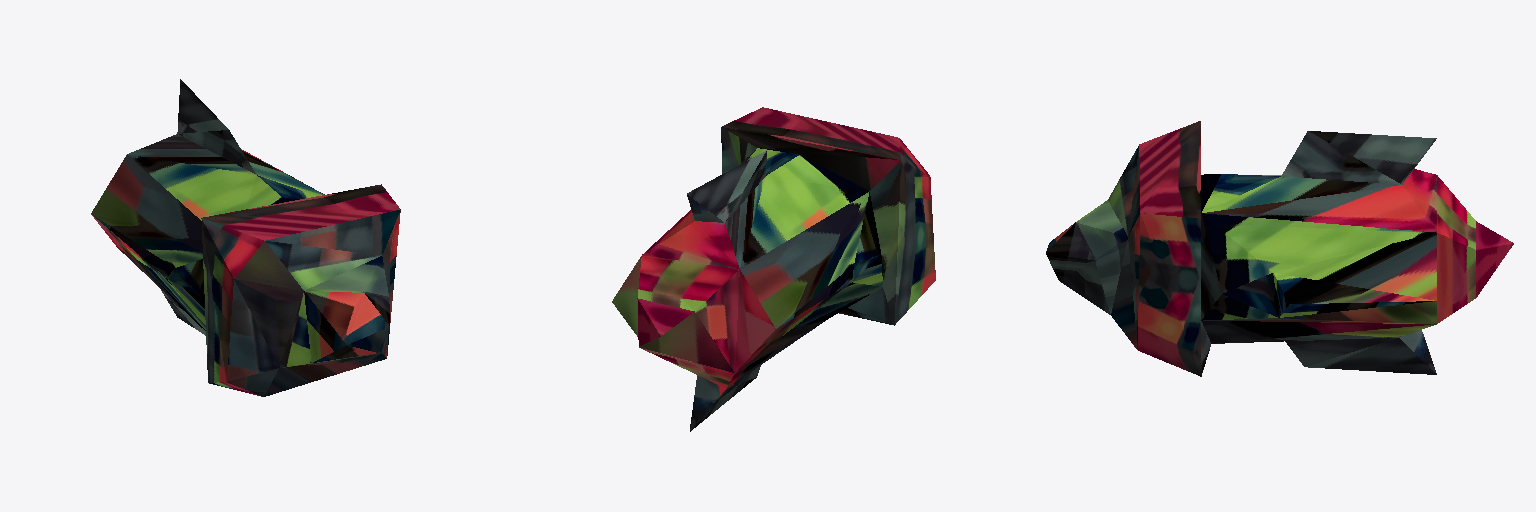
3 renders of one model, left to right at view 1: azimuth 30°, elevation 25°; view 2: azimuth 150°, elevation 25°; view 3: azimuth 270°, elevation 25°, orthographic.
Parts seen in each view (by area): view 1: ai_model; view 2: ai_model; view 3: ai_model.
Part boxes in pixels (bbox=[...]): ai_model: bbox=[91, 79, 400, 396]; ai_model: bbox=[612, 107, 935, 431]; ai_model: bbox=[1046, 121, 1513, 376].
Size of the model in its own units: 0.4166 by 0.4806 by 0.8573.
1 materials, 1 textured.